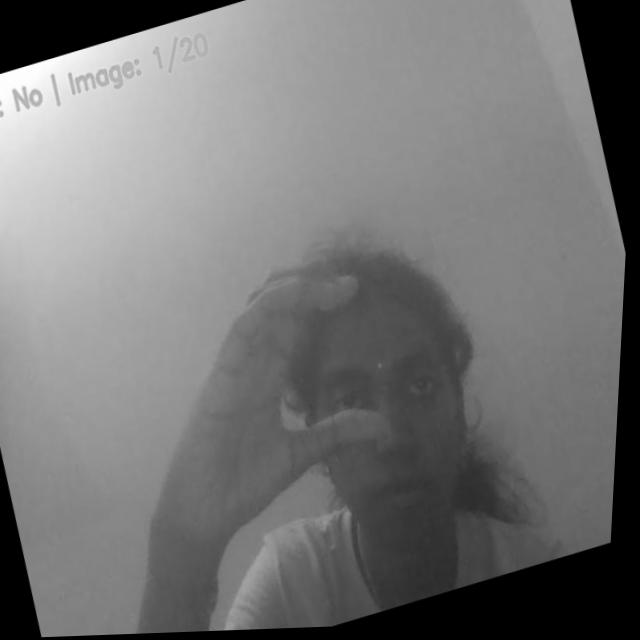No: (107, 249, 424, 560)
